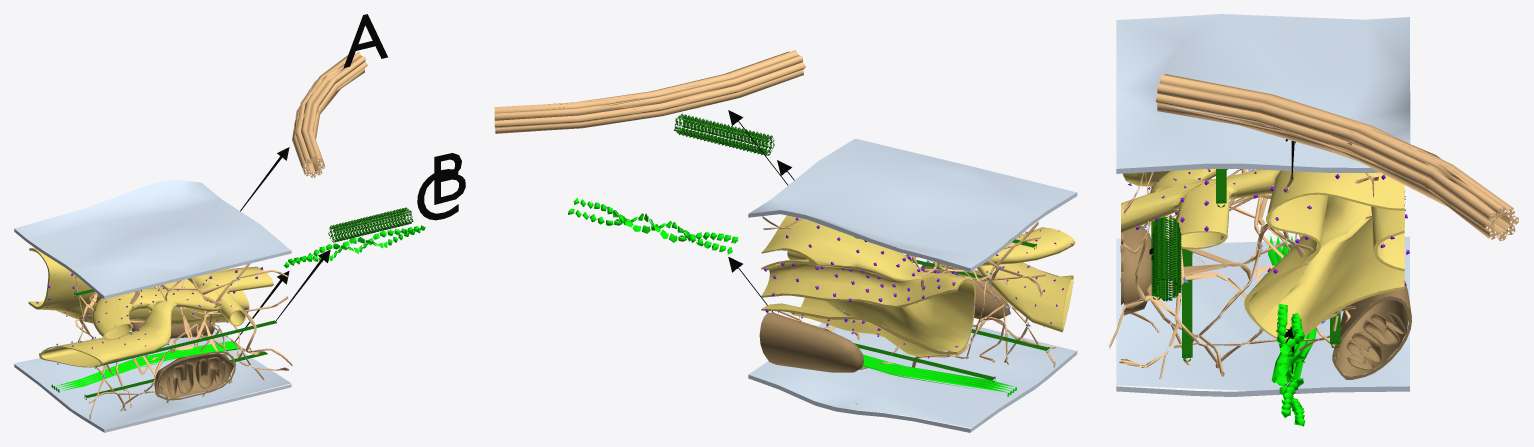
The model's file is To_blender_5-2-210830lowmesh.gltf.
3 views of the same model, side by side, from view 1: azimuth 30°, elevation 25°; view 2: azimuth 150°, elevation 25°; view 3: azimuth 270°, elevation 25° (orthographic). The views are drawn at different scales.
Visible parts, largest first — view 1: 1, 5, 19, a_20, 8, 3, b_24, 7, c_22, 15, 文字.001_文字.003, 文字_文字.002 (+2 smaller); view 2: 1, 5, a_20, 13, 19, b_24, c_22, 3, 15, 8, 10; view 3: 1, 5, a_20, 19, 13, b_24, c_22, 12, 15, 8, 3, 10.
Boxes of the visible parts, box(x1,y1,x2,y2) form: 1: box(14, 179, 291, 432); 5: box(28, 248, 273, 367); 19: box(75, 263, 292, 419); a_20: box(292, 51, 367, 177); 8: box(154, 351, 235, 400); 3: box(51, 341, 240, 392); b_24: box(328, 207, 413, 242); 7: box(167, 357, 225, 395); c_22: box(284, 225, 425, 268); 15: box(39, 289, 276, 399); 文字.001_文字.003: box(434, 153, 465, 204); 文字_文字.002: box(343, 14, 387, 68); 1: box(748, 138, 1077, 432); 5: box(761, 215, 1075, 356); a_20: box(494, 50, 805, 133); 13: box(759, 312, 863, 372); 19: box(762, 216, 1055, 404); b_24: box(674, 113, 774, 155); c_22: box(568, 197, 738, 254); 3: box(863, 354, 1016, 396); 15: box(854, 238, 1049, 382); 8: box(920, 262, 1010, 320); 10: box(764, 217, 1072, 358); 1: box(1116, 14, 1410, 396); 5: box(1121, 167, 1404, 340); a_20: box(1155, 74, 1518, 240); 19: box(1109, 167, 1378, 379); 13: box(1332, 280, 1411, 379); b_24: box(1152, 216, 1181, 301); c_22: box(1275, 303, 1305, 426); 12: box(1346, 312, 1405, 369); 15: box(1151, 169, 1340, 361); 8: box(1123, 225, 1151, 315); 3: box(1268, 236, 1316, 382); 10: box(1128, 169, 1409, 285).
Bounding box in the file's own units: 71.99 × 43.77 × 36.36.
